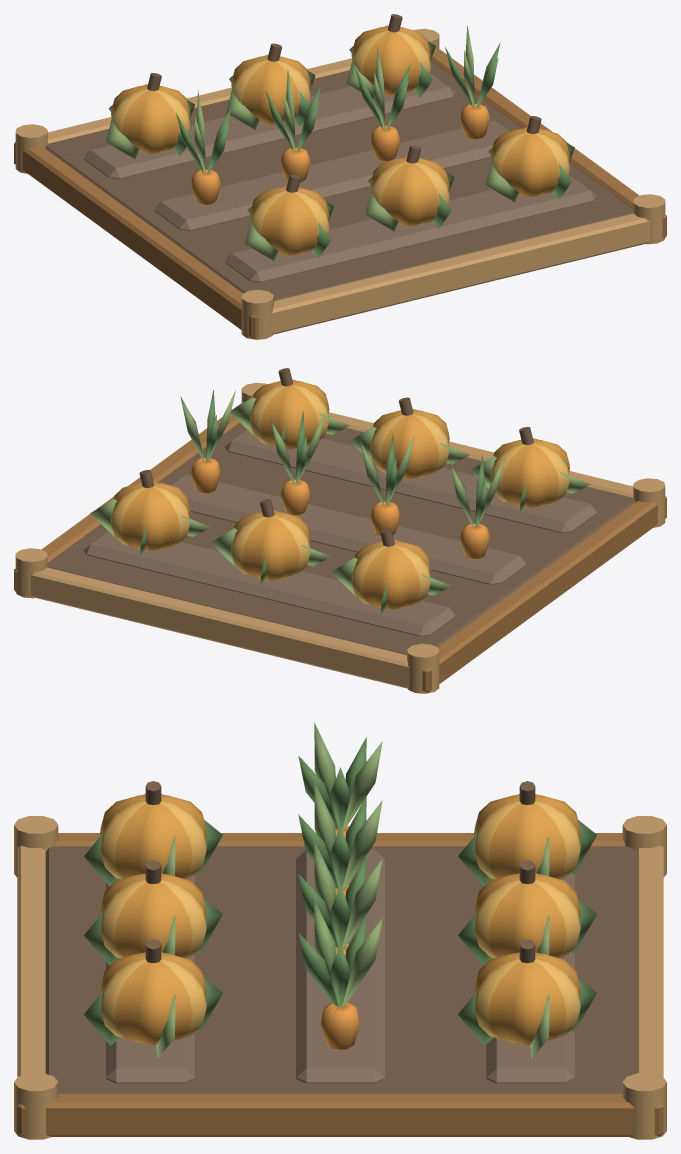
File: SM_VegetablePatch.fbx
3 renders of one model, top to bottom at view 1: azimuth 30°, elevation 25°; view 2: azimuth 150°, elevation 25°; view 3: azimuth 270°, elevation 25°, orthographic. The views are drawn at different scales.
Parts seen in each view (by area): view 1: SM_VegetablePatch; view 2: SM_VegetablePatch; view 3: SM_VegetablePatch.
Boxes of the visible parts, x1=… form: SM_VegetablePatch: x1=14, y1=14, x2=666, y2=339; SM_VegetablePatch: x1=14, y1=368, x2=666, y2=693; SM_VegetablePatch: x1=14, y1=722, x2=666, y2=1139.
Size of the model in its own units: 2.05 by 2.06 by 0.62.
